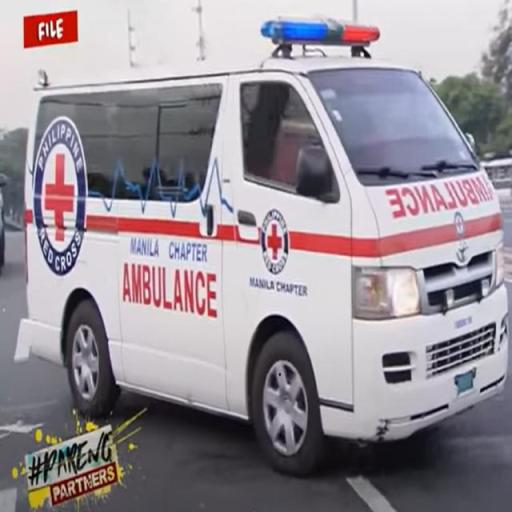Police car: (30, 20, 510, 464)
